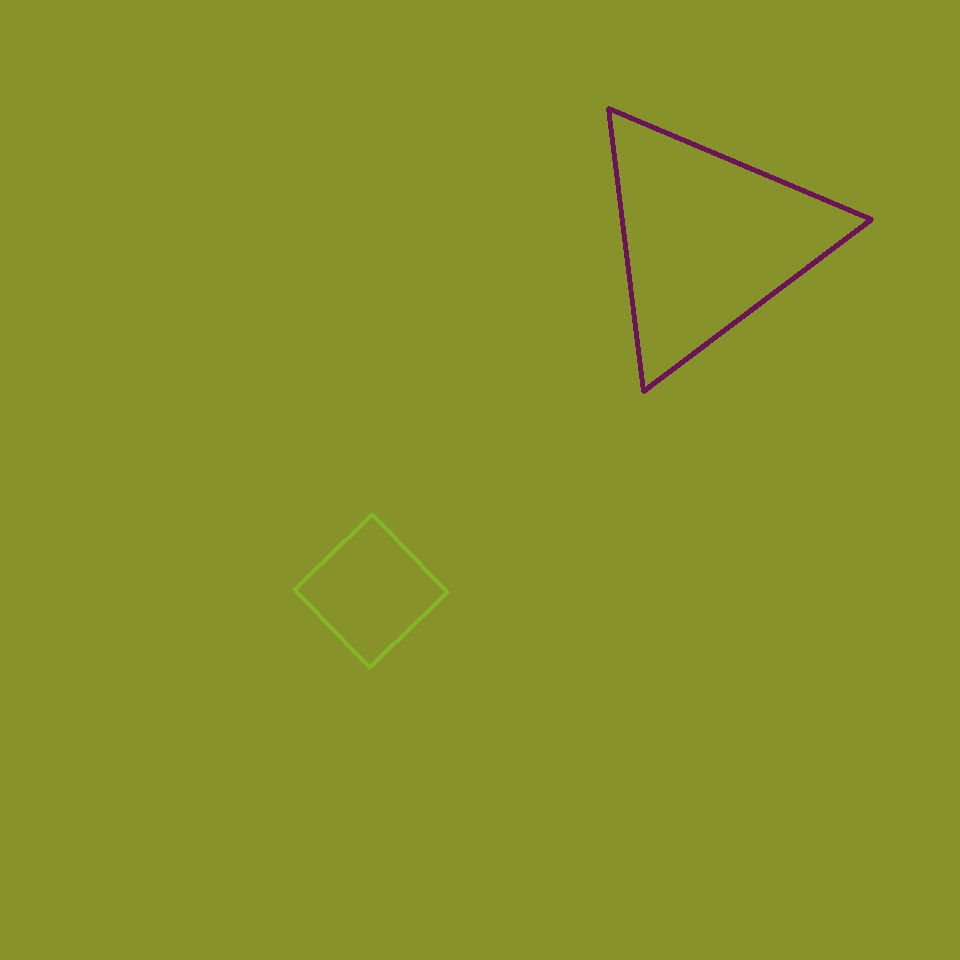circle: (576, 98, 840, 382)
square: (294, 514, 448, 668)
